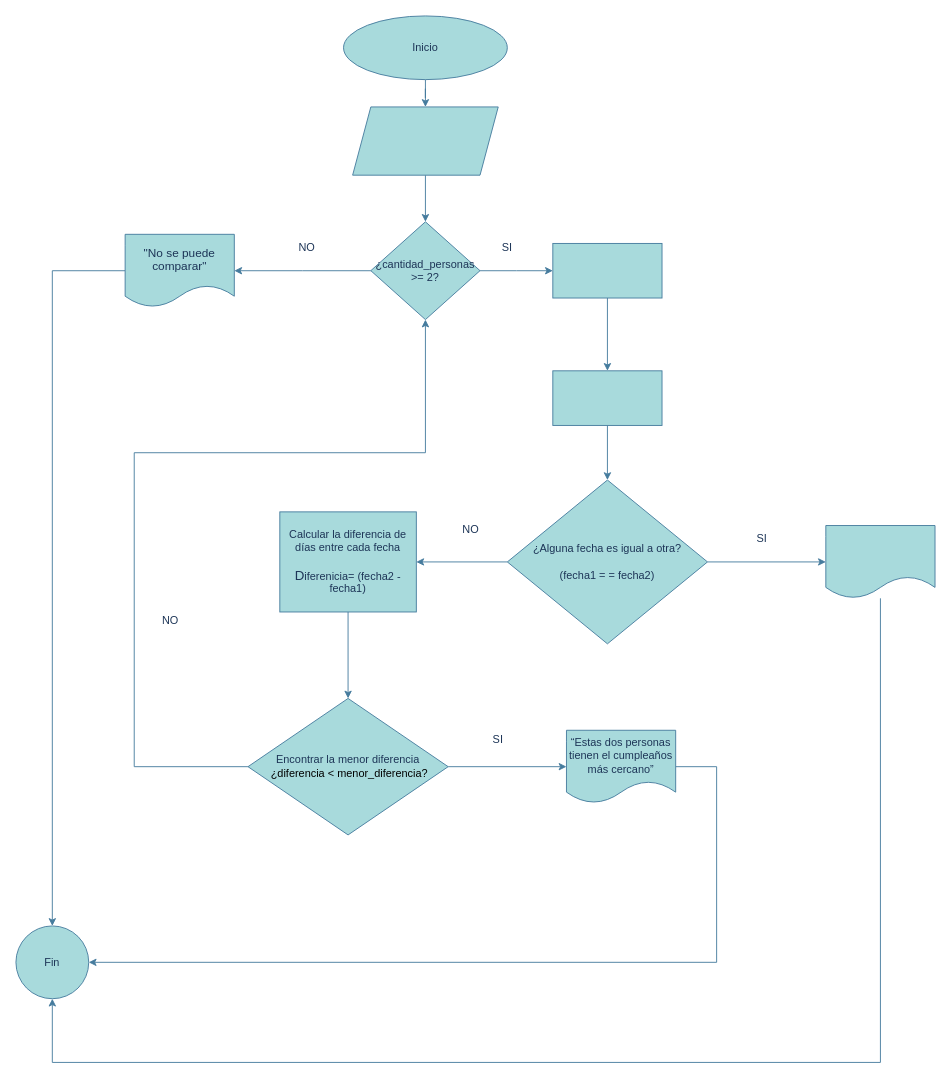
Some shapes in this 951 by 1086 pixel diagram are drawn without their labels. The shapes that lost their labels are listed below. From the top down, each one's centre as x and y in pixels, then its label:
At [425,140]: "Ingresar la lista con las fechas de cumpleaños= cantidad de personas".
At [607,270]: "Separar cada fecha en Mes y Día".
At [607,397]: "Comparar cada fecha con la siguiente".
At [880,561]: "“Estas dos personas cumplen el mismo día”".
